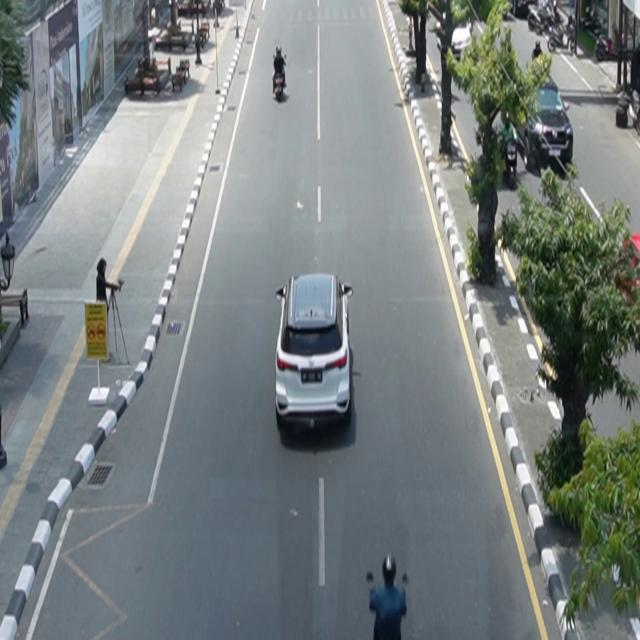car: (275, 273, 354, 429)
